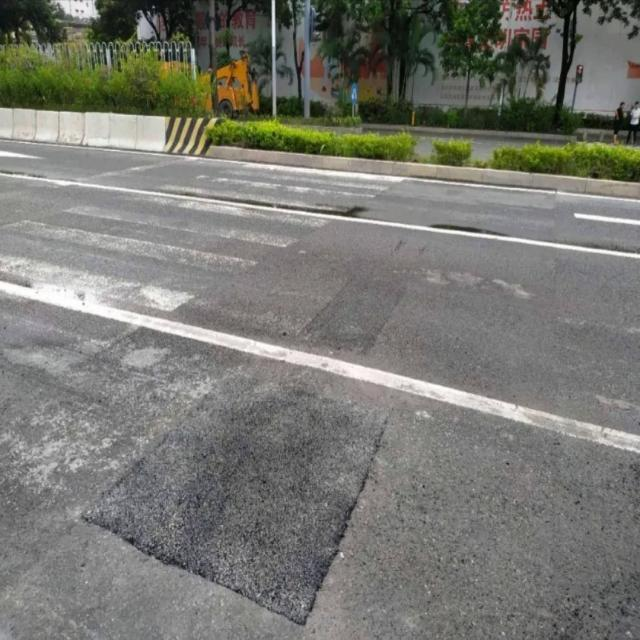Pothole: (75, 363, 395, 631)
